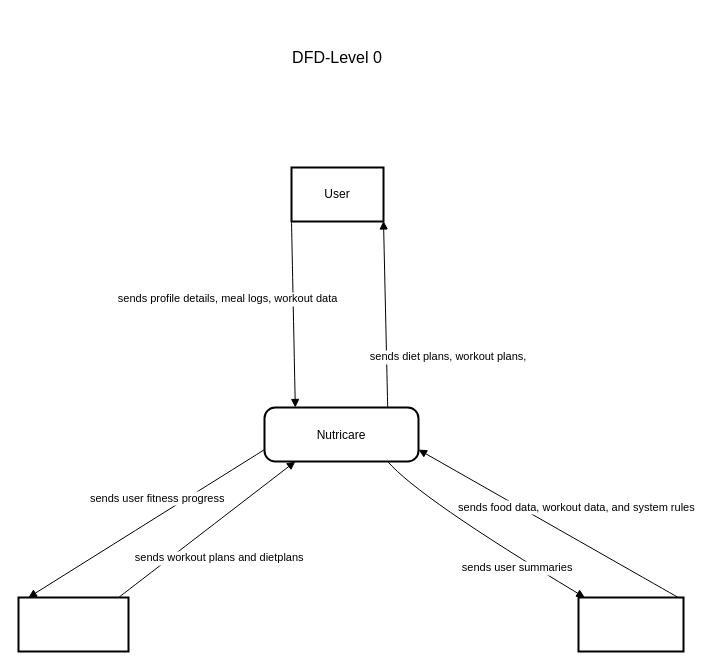
This 714x669 diagram has some shape labels left out. The centre of each missing label's shape, as x and y in pixels:
Admin: [630,624]
Dietitian: [73,624]
